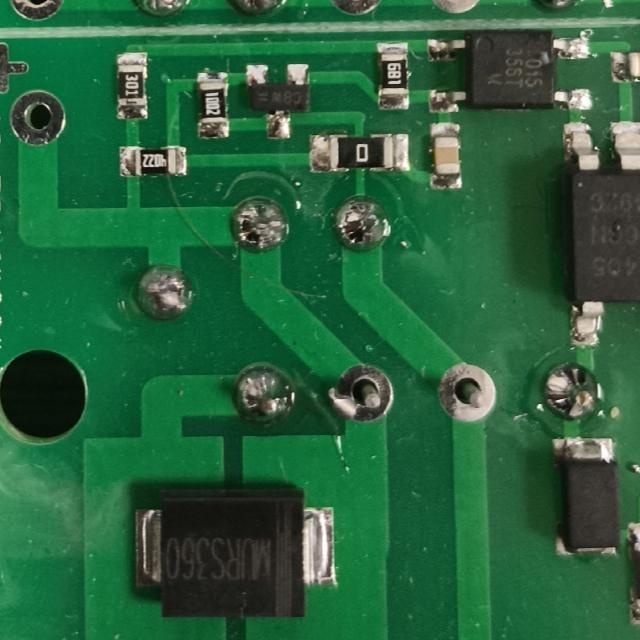chip-capacitor: (430, 120, 466, 192)
chip-resistor: (306, 132, 414, 172), (194, 67, 231, 142), (113, 50, 151, 122), (373, 41, 412, 111), (116, 144, 190, 180)
diode: (130, 487, 343, 621), (551, 433, 621, 559)
ic: (424, 27, 600, 112)
transistor: (243, 60, 316, 140)
